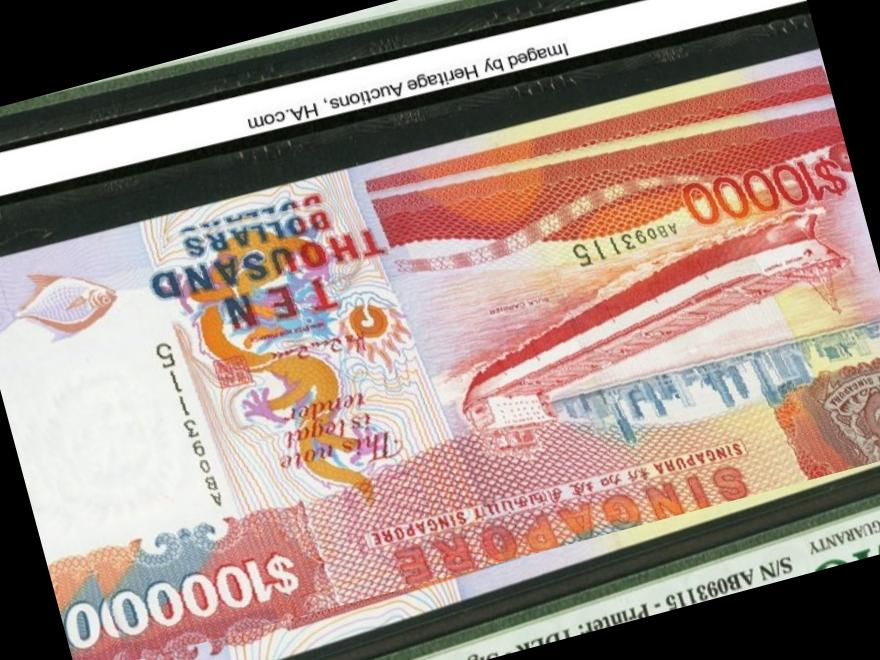10000SingaporeDollar: (0, 49, 880, 660)
